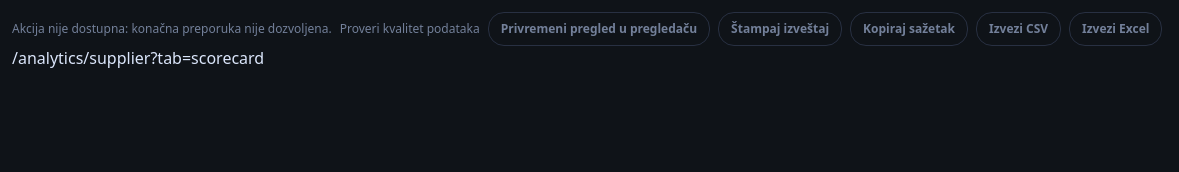
Test: SupplierDecisionReportActions › marks browser snapshots as explicit previews
Click the button "Privremeni pregled u pregledaču" at (599, 29), box [488,12,710,46]
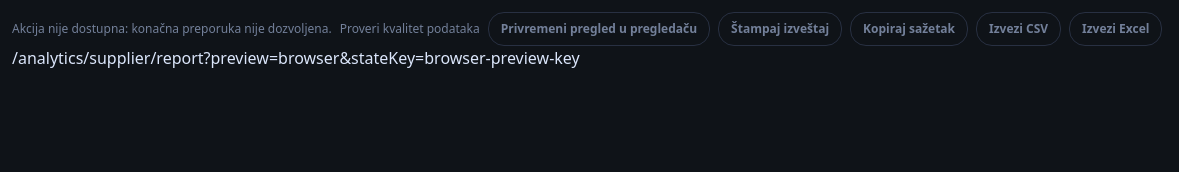
Result: the text with test id "location" reads "/analytics/supplier/report?preview=browser&stateKey=browser-preview-key" at [12,47,580,69]
